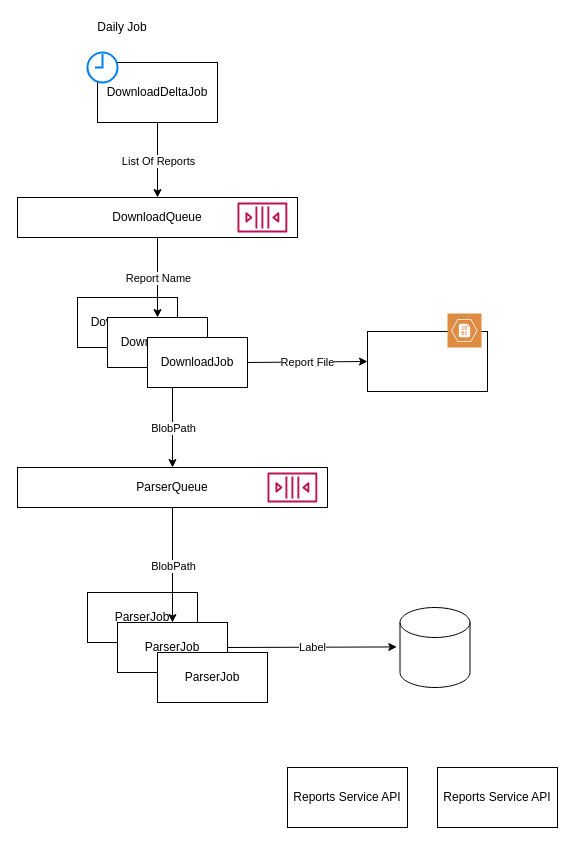
Image size: 575x845. Some labels were removed from this diagram. The shapes that lost their labels are listed below. From the top down, each one's centre as x and y in pixels, then its label:
At (427,361): "Reports".
At (434,647): "ReportsDB".
